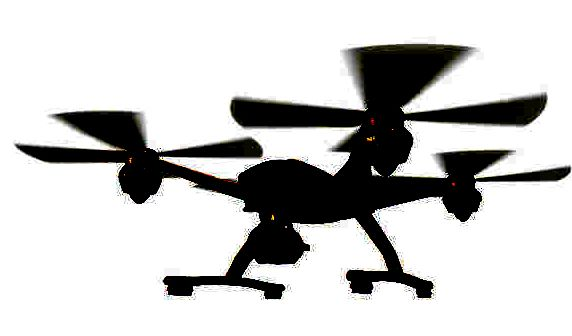Drone: (12, 41, 571, 302)
